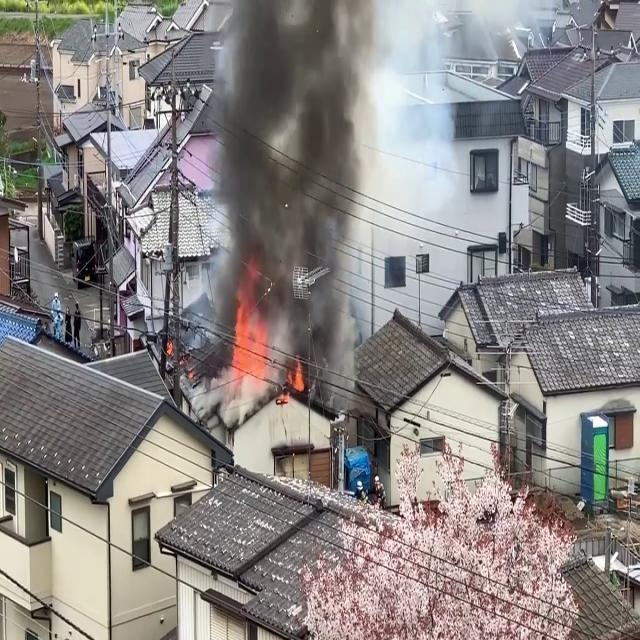Fire: (226, 276, 273, 398)
Smoke: (200, 0, 386, 390)
